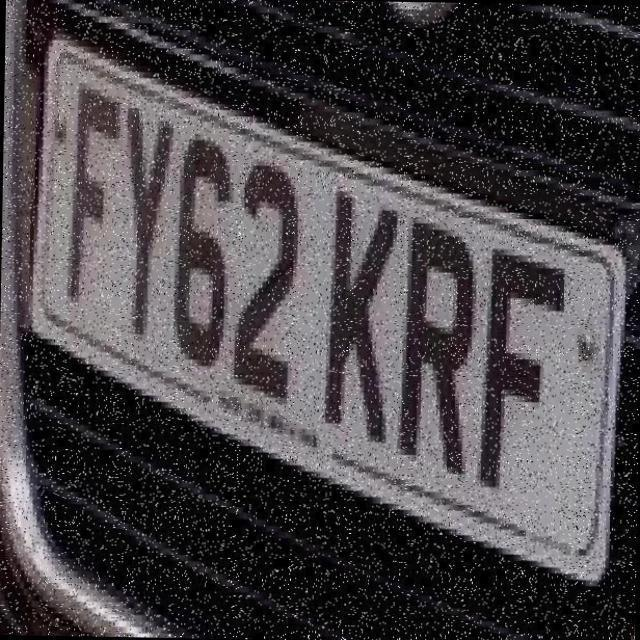License Plate: (24, 17, 624, 580)
